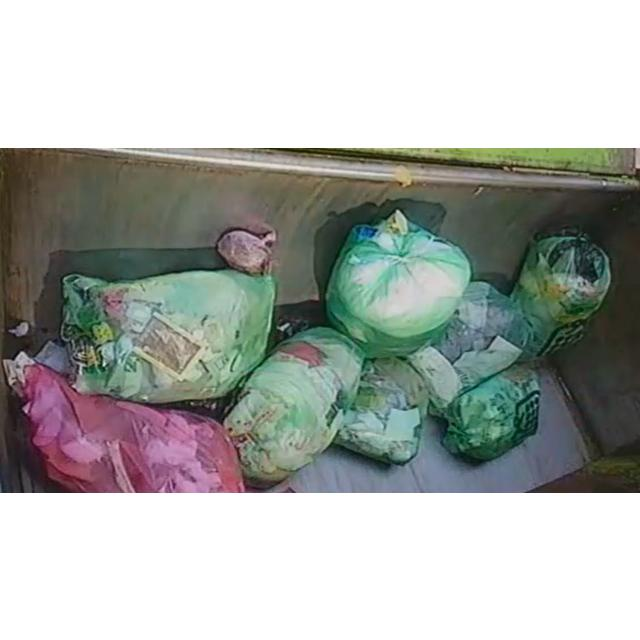general_trashbag: (61, 268, 275, 402), (224, 326, 364, 486), (326, 210, 471, 357), (409, 281, 529, 408), (511, 234, 611, 354), (334, 357, 428, 463), (444, 363, 540, 460)
other_trashbag: (16, 362, 244, 492)
